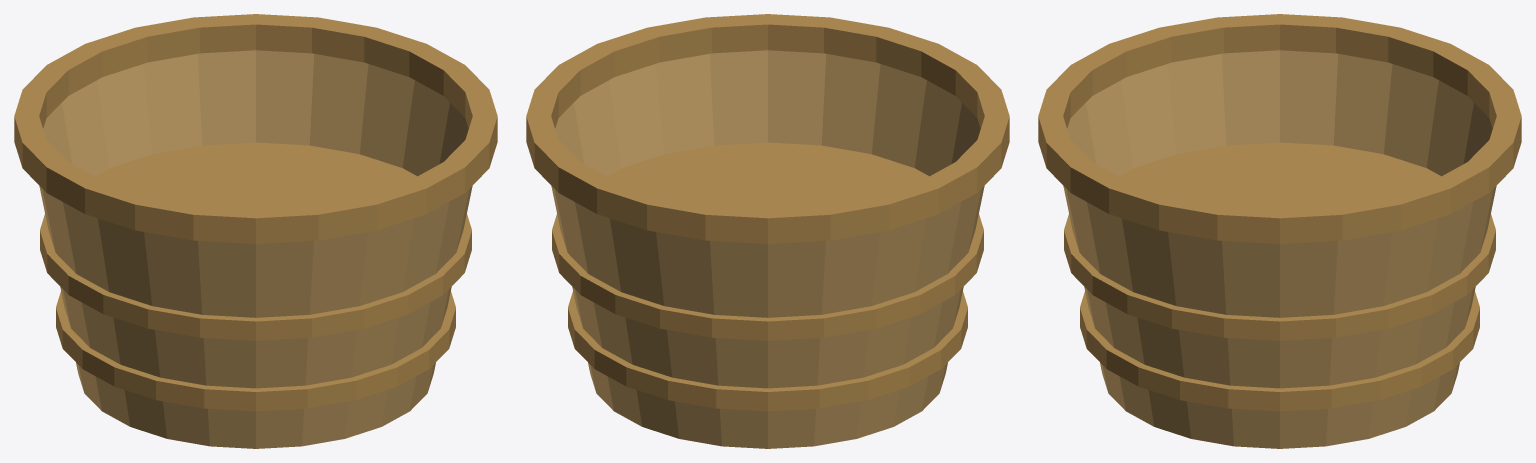
File: Basket.fbx
3 renders of one model, left to right at view 1: azimuth 30°, elevation 25°; view 2: azimuth 150°, elevation 25°; view 3: azimuth 270°, elevation 25°, orthographic.
Visible parts, largest first — view 1: Basket_Body, Basket_Rim, Basket_Band_1, Basket_Band_0; view 2: Basket_Body, Basket_Rim, Basket_Band_1, Basket_Band_0; view 3: Basket_Body, Basket_Rim, Basket_Band_1, Basket_Band_0.
Part boxes in pixels (x1,y1,x2,y2): Basket_Body: [39, 50, 472, 448]; Basket_Rim: [14, 14, 497, 243]; Basket_Band_1: [40, 142, 471, 340]; Basket_Band_0: [56, 291, 455, 411]; Basket_Body: [551, 50, 984, 448]; Basket_Rim: [526, 14, 1009, 243]; Basket_Band_1: [552, 142, 983, 340]; Basket_Band_0: [568, 291, 967, 411]; Basket_Body: [1063, 50, 1496, 448]; Basket_Rim: [1038, 14, 1521, 243]; Basket_Band_1: [1064, 142, 1495, 340]; Basket_Band_0: [1080, 291, 1479, 411].
Bounding box in the file's own units: 136 × 80 × 136.
